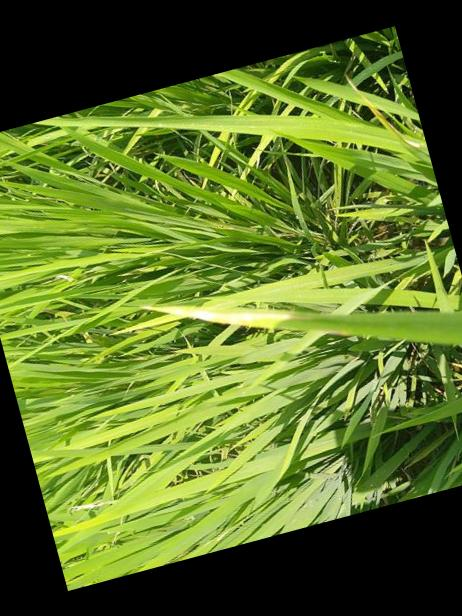Leaf Blight: (148, 303, 323, 327)
